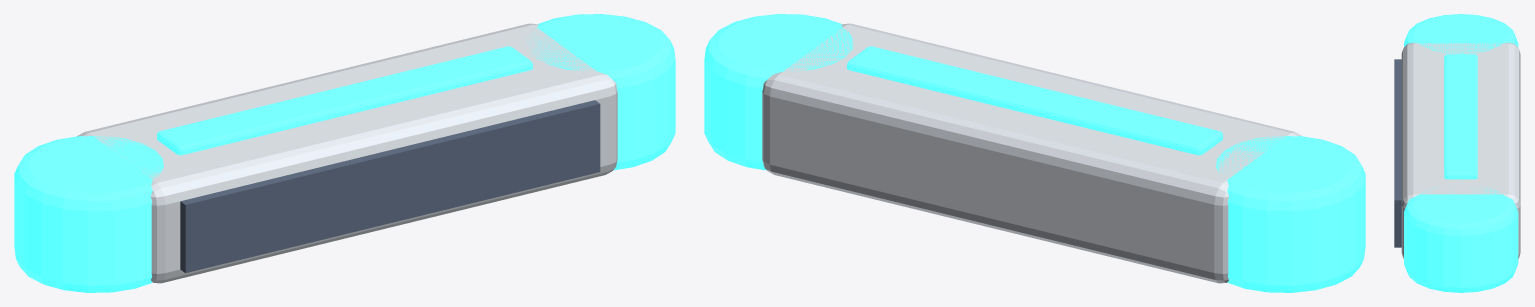
Rendered from paddle.glb.
3 views of the same model, side by side, from view 1: azimuth 30°, elevation 25°; view 2: azimuth 150°, elevation 25°; view 3: azimuth 270°, elevation 25° (orthographic). The views are drawn at different scales.
Visible parts, largest first — view 1: Cube, Cube.002, Cylinder, Cylinder.001, Cube.001; view 2: Cube, Cylinder, Cylinder.001, Cube.001; view 3: Cube, Cylinder.001, Cube.001, Cylinder, Cube.002.
Part boxes in pixels (x1,y1,x2,y2): Cube: [77, 23, 617, 283]; Cube.002: [180, 100, 600, 273]; Cylinder: [14, 136, 163, 292]; Cylinder.001: [526, 14, 675, 170]; Cube.001: [157, 46, 532, 155]; Cube: [762, 23, 1302, 283]; Cylinder: [1216, 136, 1365, 292]; Cylinder.001: [704, 14, 853, 170]; Cube.001: [847, 46, 1222, 155]; Cube: [1401, 42, 1520, 258]; Cylinder.001: [1404, 183, 1518, 292]; Cube.001: [1444, 54, 1477, 179]; Cylinder: [1404, 14, 1518, 54]; Cube.002: [1394, 59, 1401, 247].
Size of the model in its own units: 2.16 by 0.345 by 0.53.
